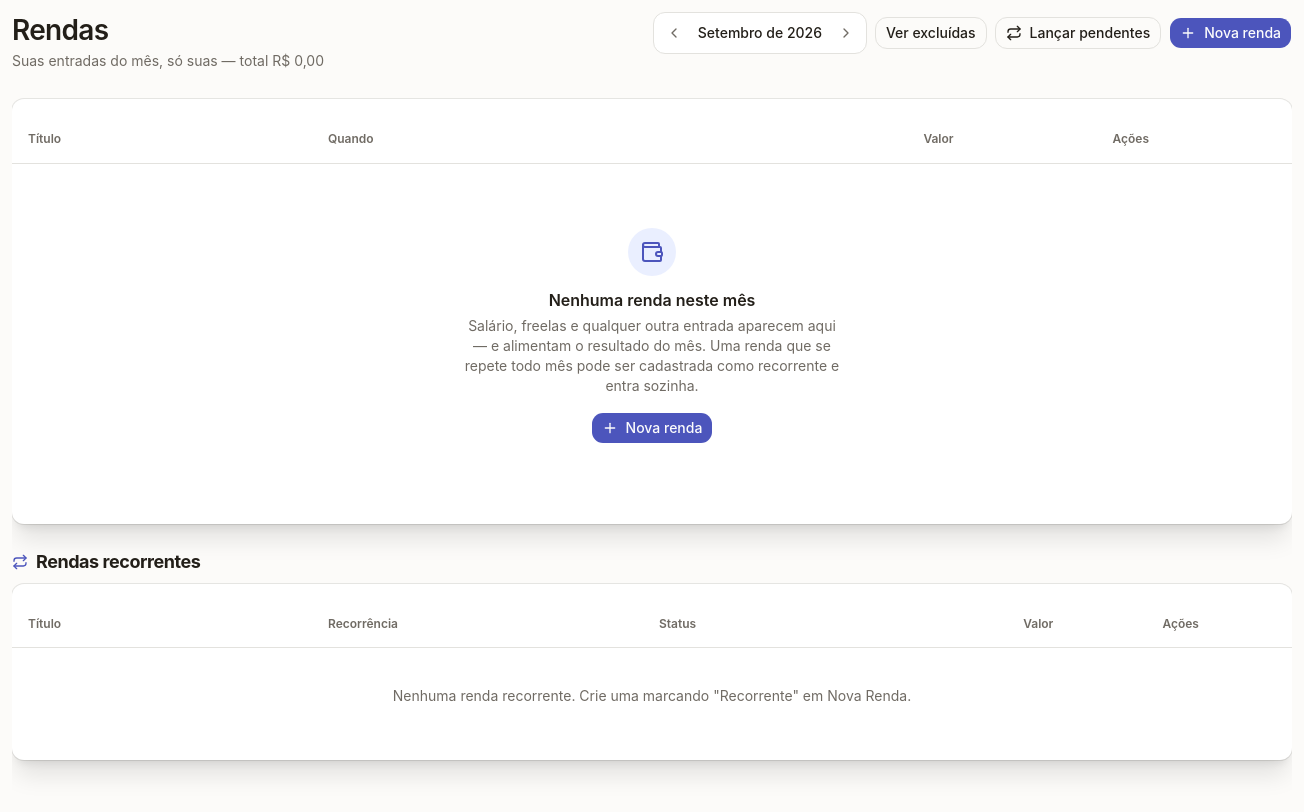
Test case: Rendas excluídas › permite encontrar uma renda antiga e restaurá-la após o aviso de exclusão sumir
This screenshot has width=1304, height=812.
Click the button "Ver excluídas".
click(931, 33)  # box [875,17,987,49]
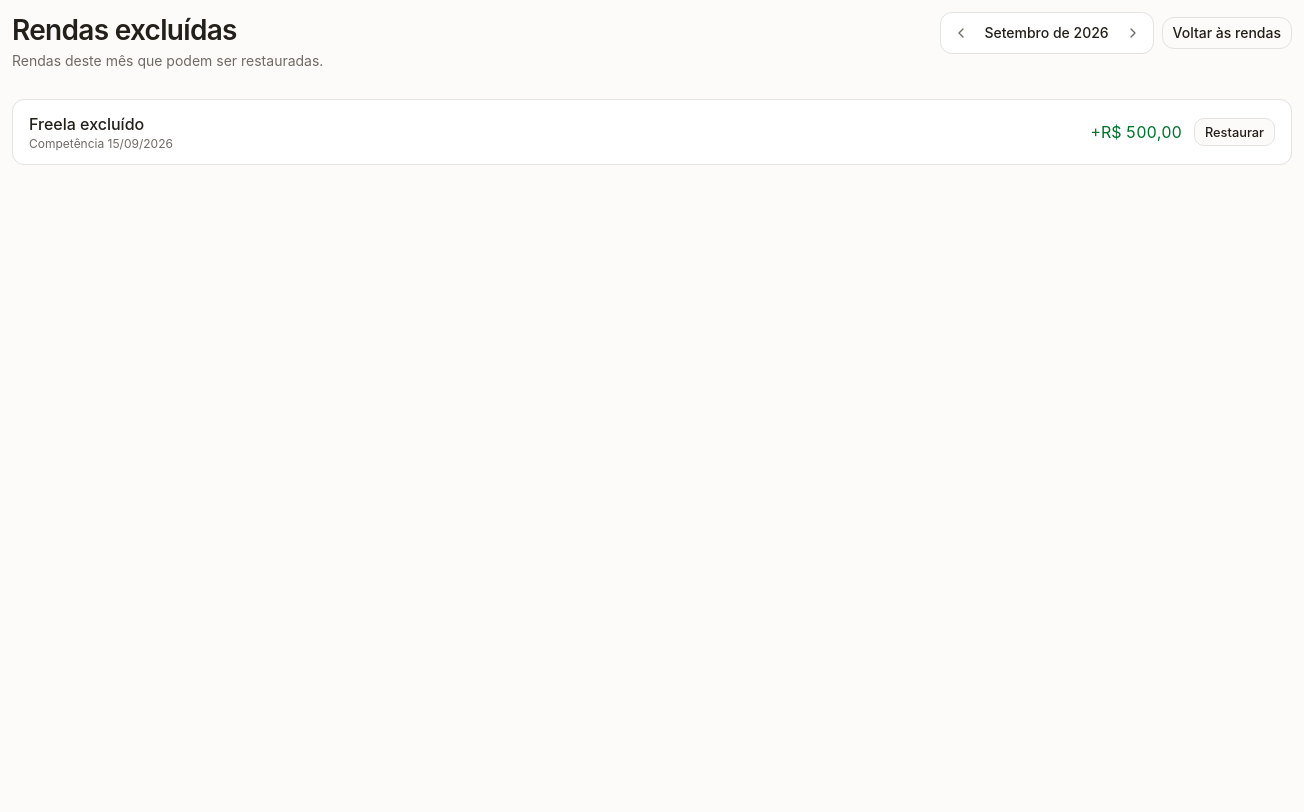
Check: the text "Freela excluído" is shown, box [29,114,144,134]
Click the button "Restaurar".
click(1234, 132)  # box [1194,118,1275,146]
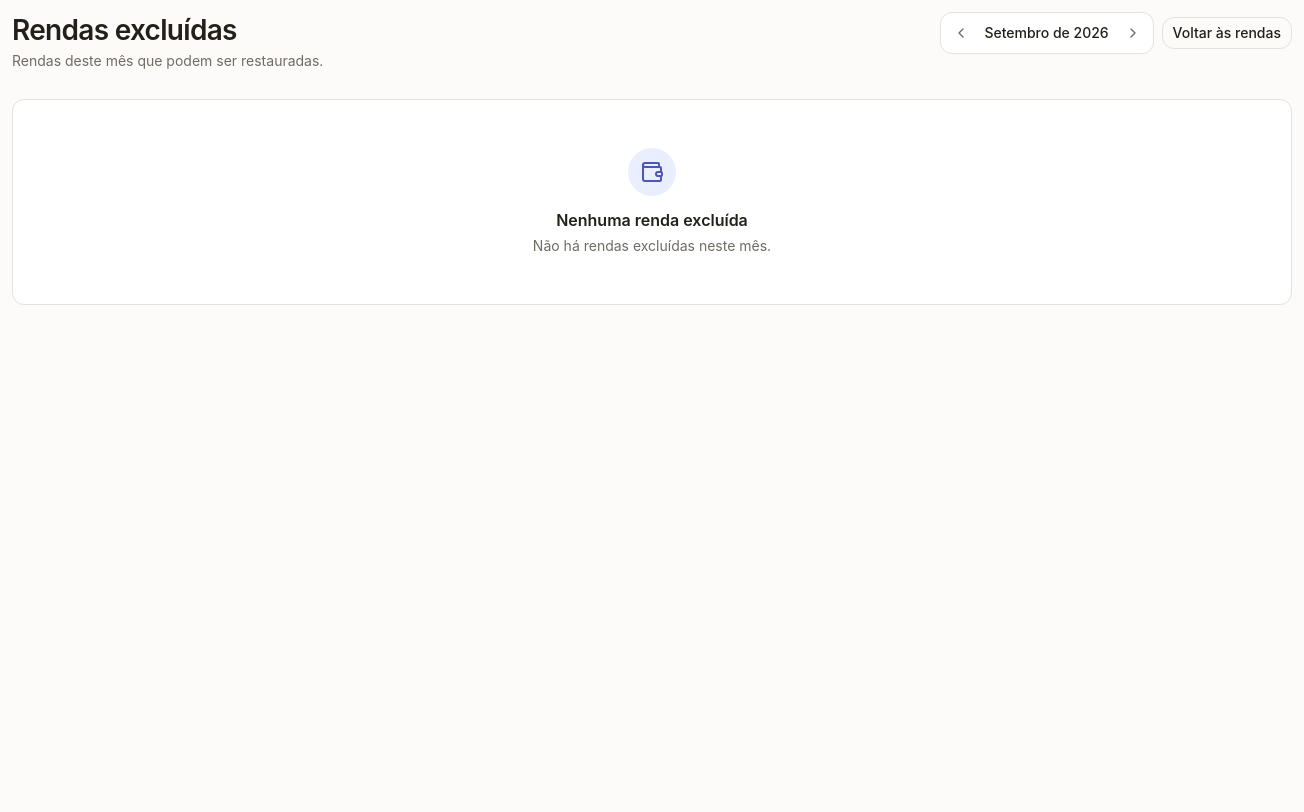
Check: the heading "Nenhuma renda excluída" is shown, box [556,210,748,230]
